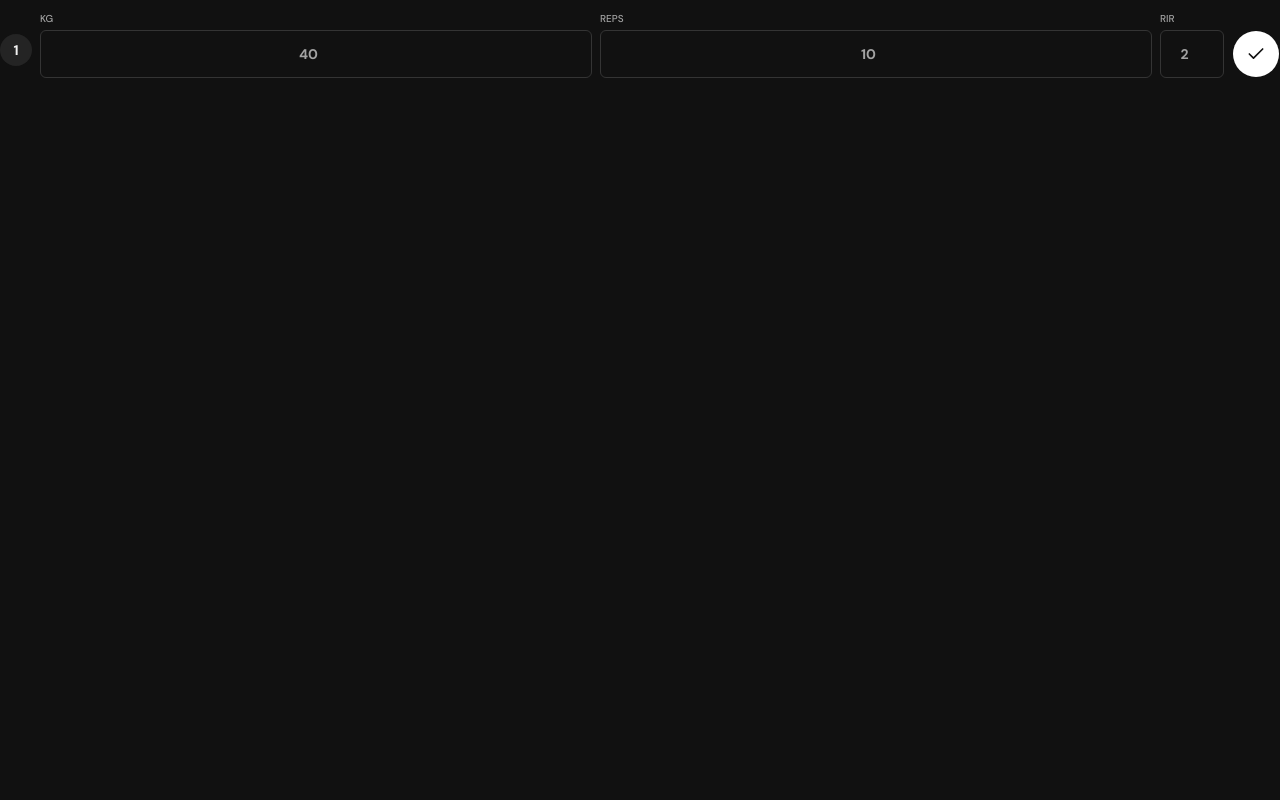
Test: RegistroSerie › conta o descanso escolhido para o exercício, e não o prescrito
Step 1. Click the button named "Registrar série 1" → x=1256, y=54, box x1=1232 y1=30 x2=1279 y2=78
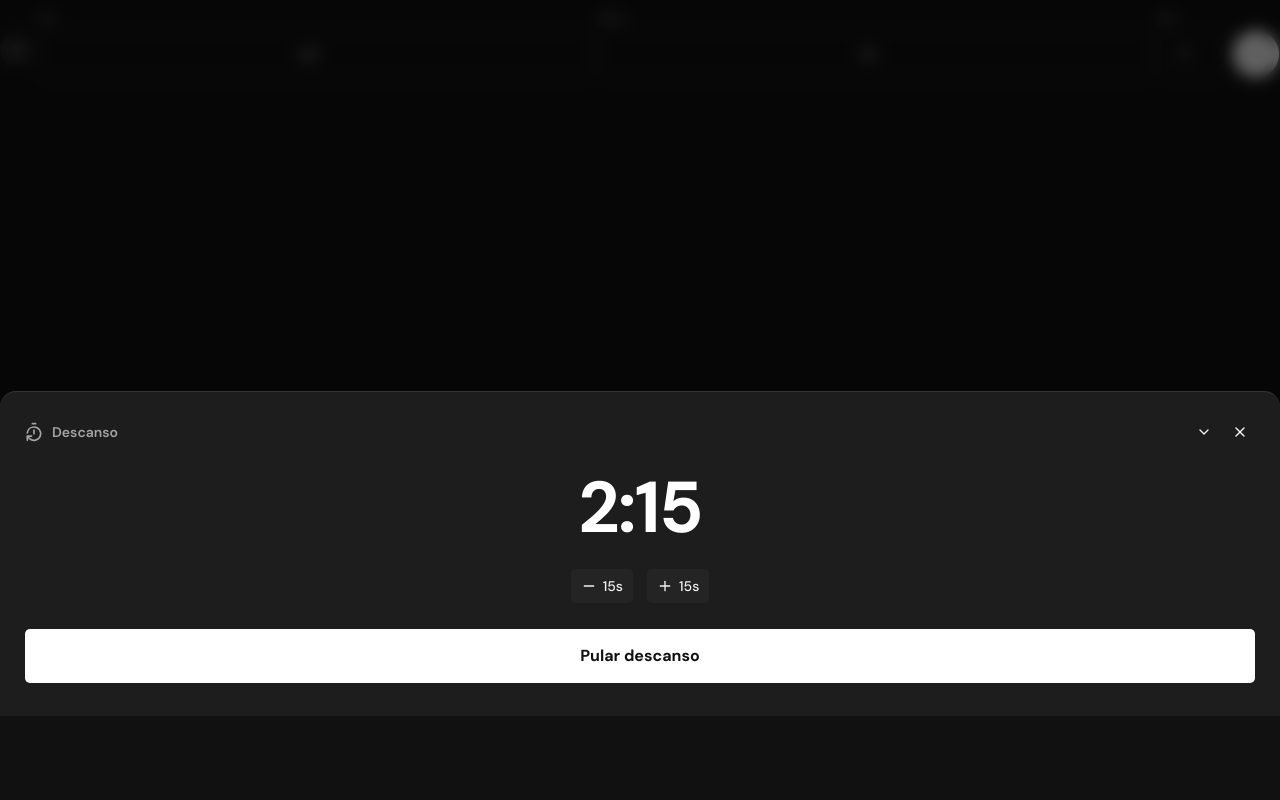
Now the text "2:15" is shown, box x1=578 y1=461 x2=702 y2=554
